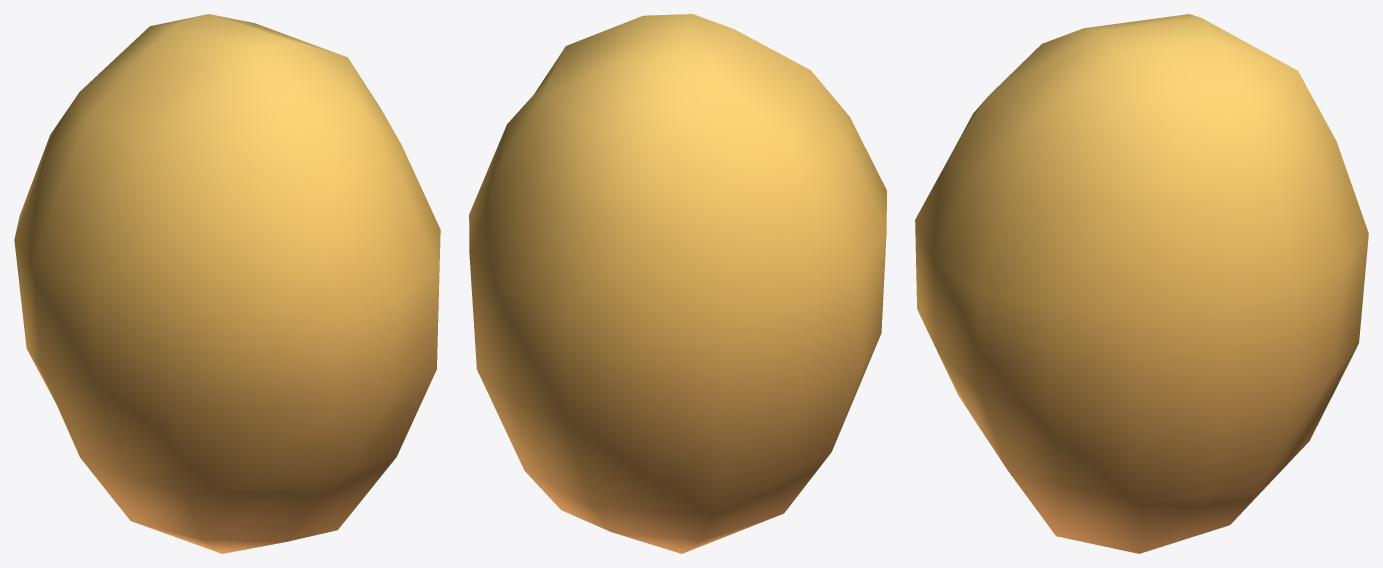
3 renders of one model, left to right at view 1: azimuth 30°, elevation 25°; view 2: azimuth 150°, elevation 25°; view 3: azimuth 270°, elevation 25°, orthographic.
Visible parts, largest first — view 1: 7-10; view 2: 7-10; view 3: 7-10.
Boxes of the visible parts, x1,y1,x2,y2 form: 7-10: [14, 14, 440, 553]; 7-10: [469, 14, 886, 553]; 7-10: [915, 14, 1368, 553].
Bounding box in the file's own units: 8.05 × 10.68 × 8.5.
